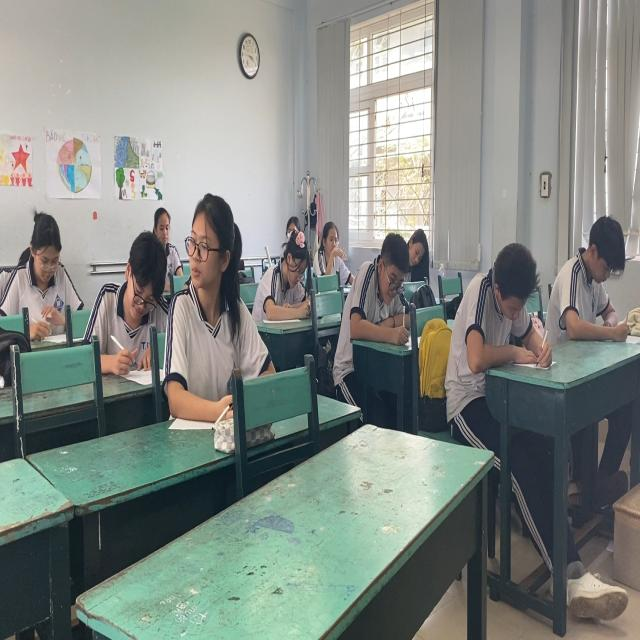cheating: (174, 190, 253, 379)
not_cheating: (465, 241, 558, 359), (7, 203, 88, 331), (92, 233, 174, 358), (556, 210, 630, 341), (347, 227, 405, 338), (255, 220, 316, 317), (312, 217, 349, 286), (148, 203, 181, 276), (399, 217, 430, 276)
